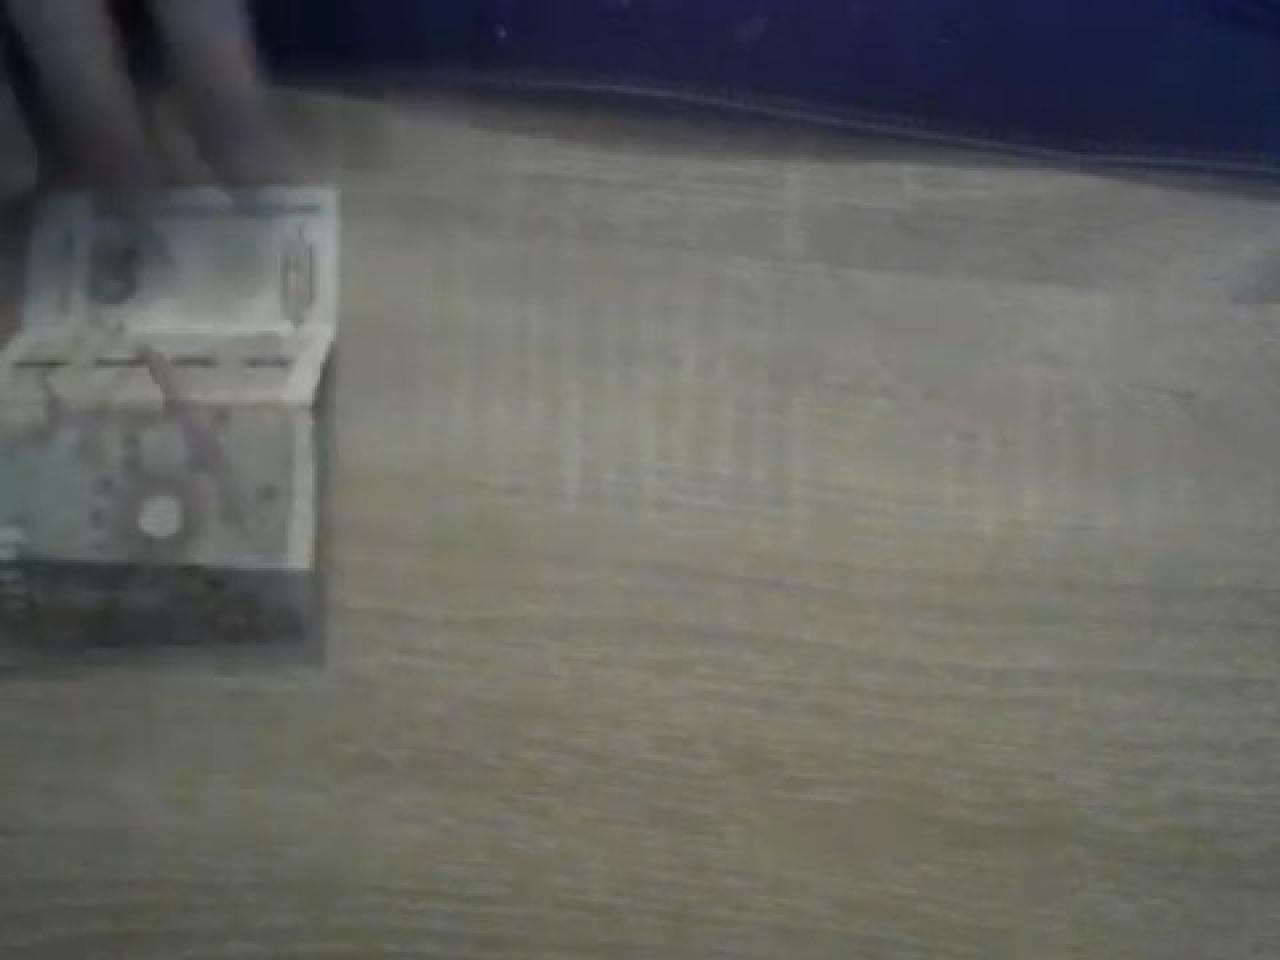10leva: (0, 184, 342, 667)
